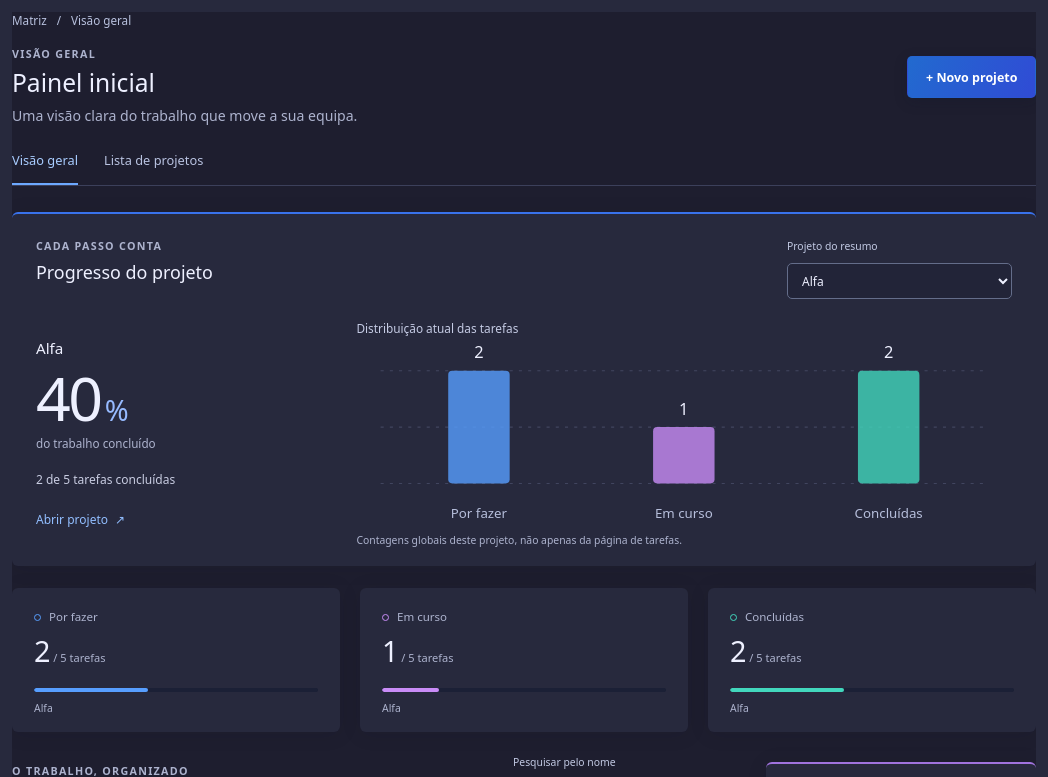
Test: Criação de tarefas › Indicadores do painel › usa os totais do projeto selecionado, não soma uma página como se fosse o conjunto global
The width and height of the screenshot is (1048, 777).
Expected: the element named "Por fazer: 2" is shown, 12,588 -> 340,732
Expected: the picture named "Tarefas por estado de Alfa" is shown, 356,338 -> 1012,532
Select "Beta" in the dropdown labelled "Projeto do resumo" at point(900, 281), box 787,263 -> 1012,299
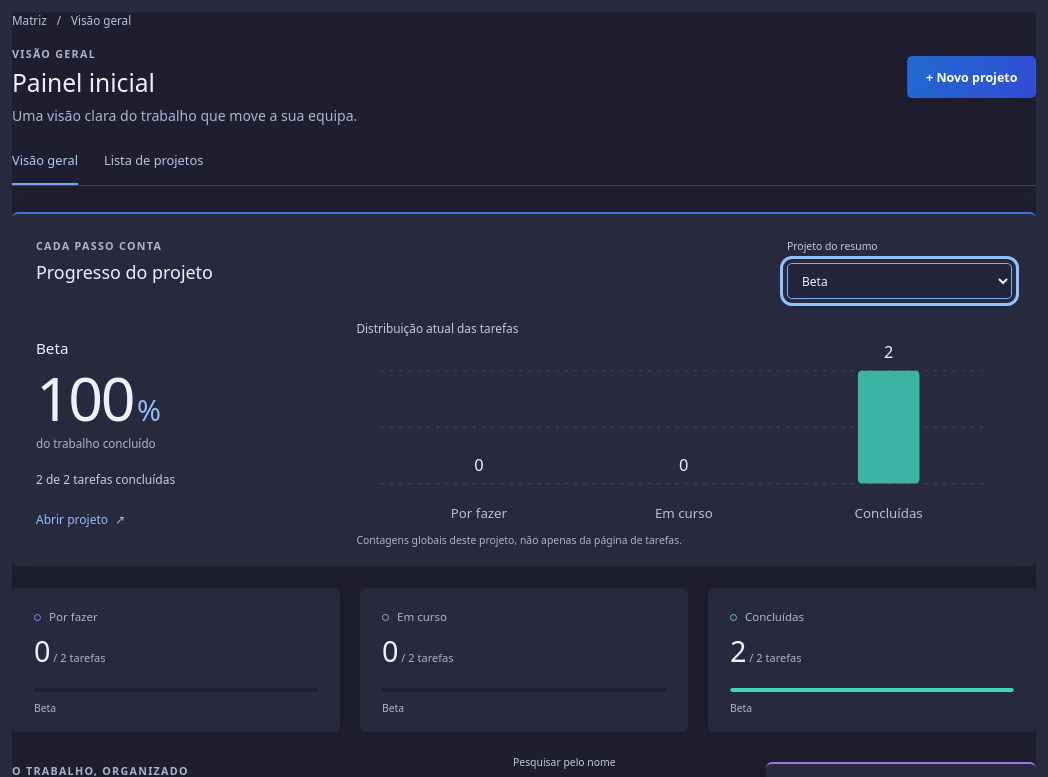
Now the element named "Por fazer: 0" is shown, box 12,588 -> 340,732
Now the text "2 de 2 tarefas concluídas" is shown, box 36,471 -> 175,488
Now the picture named "Tarefas por estado de Beta" is shown, box 356,338 -> 1012,532
